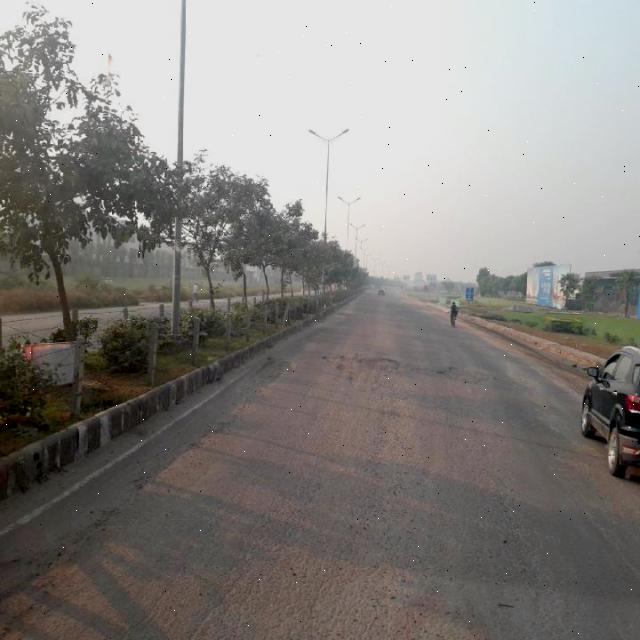D20: (164, 398, 497, 636)
D40: (320, 349, 406, 386), (426, 361, 498, 395), (256, 342, 294, 381)
